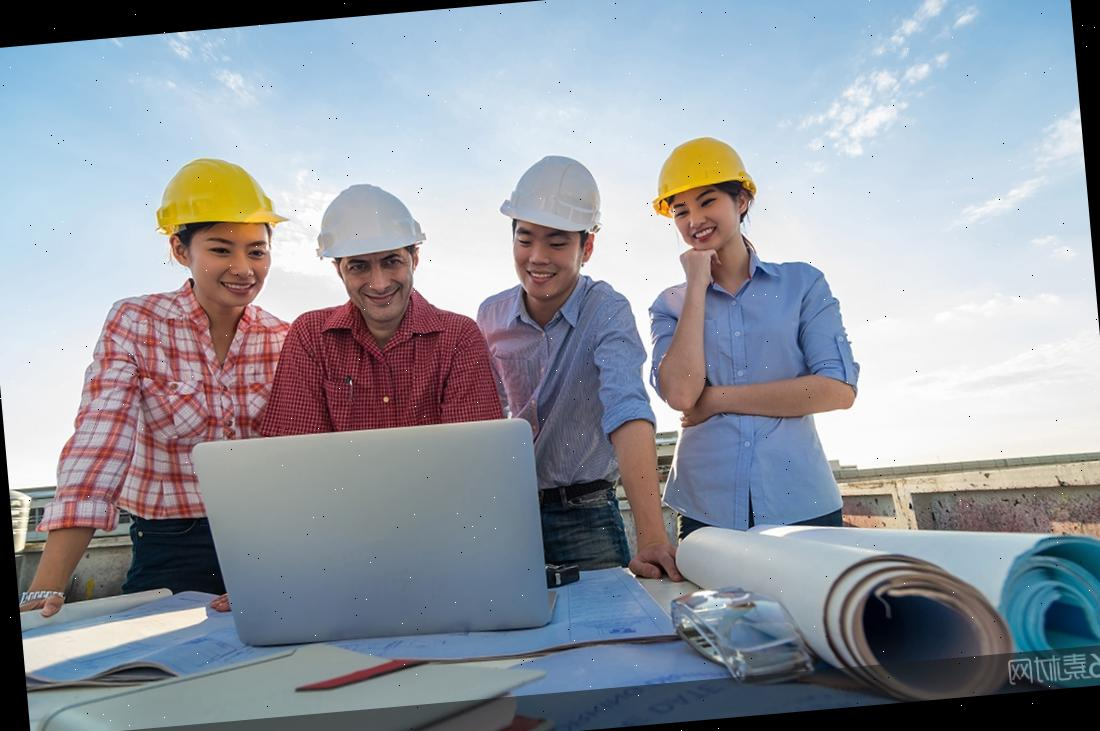helmet: (141, 143, 292, 239), (303, 176, 427, 266), (494, 146, 612, 240), (639, 129, 756, 207)
no_wear: (651, 260, 855, 546), (486, 282, 635, 498), (98, 303, 295, 452), (290, 302, 477, 431)
